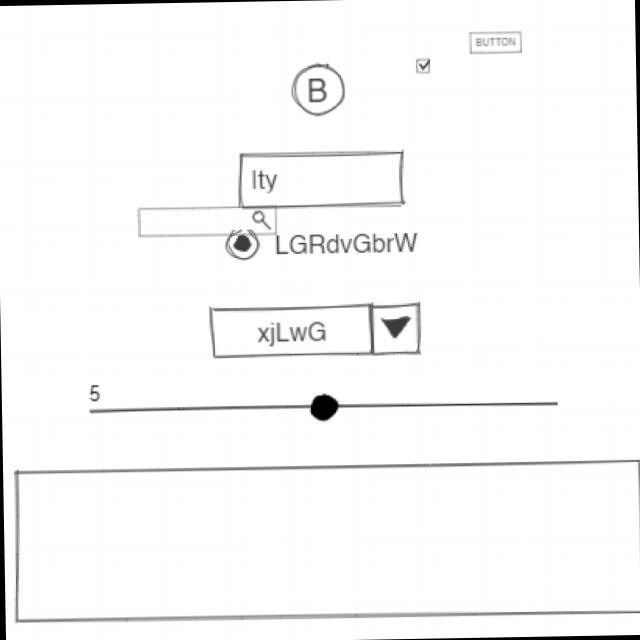button: (466, 26, 526, 56)
checkbox: (412, 55, 432, 74)
container: (8, 453, 640, 627)
icon-button: (286, 60, 346, 118)
input: (234, 146, 408, 212)
radio: (224, 223, 420, 262)
search: (135, 201, 280, 240)
select: (207, 299, 425, 362)
slider: (109, 387, 562, 429)
